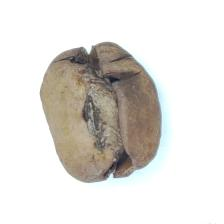NG: (67, 48, 136, 173)
